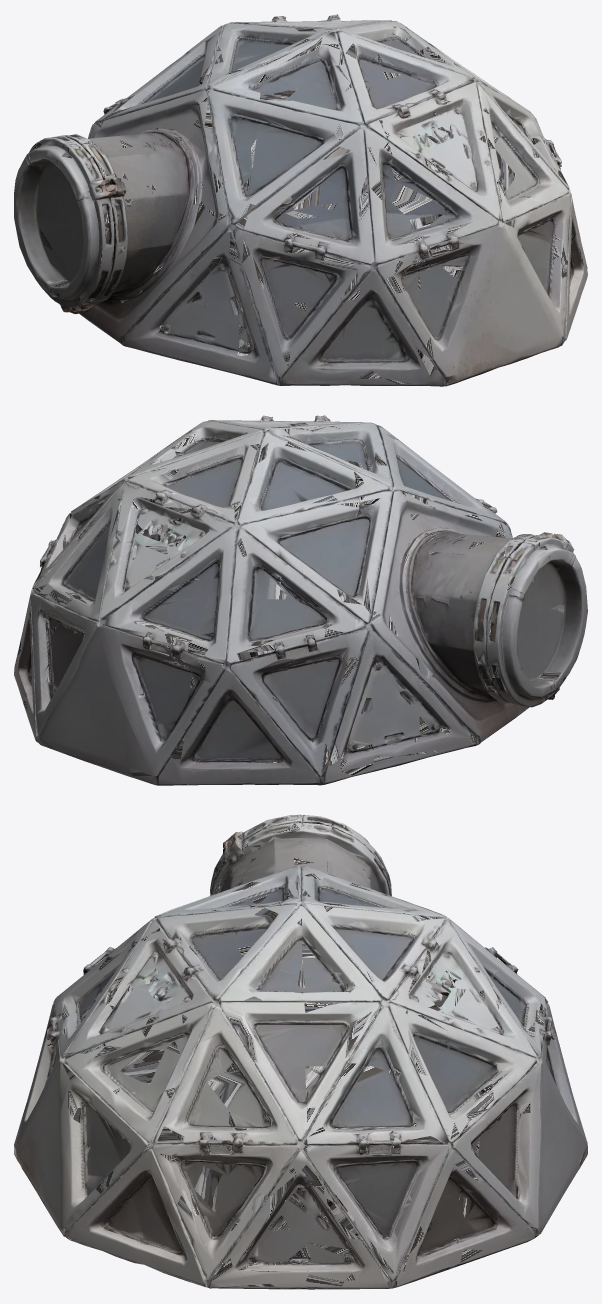
The model's file is building-2.glb.
3 renders of one model, top to bottom at view 1: azimuth 30°, elevation 25°; view 2: azimuth 150°, elevation 25°; view 3: azimuth 270°, elevation 25°, orthographic. The views are drawn at different scales.
Visible parts, largest first — view 1: tripo_node_6cfb158f-0798-49cf-8766-7e04f8e2e4c2; view 2: tripo_node_6cfb158f-0798-49cf-8766-7e04f8e2e4c2; view 3: tripo_node_6cfb158f-0798-49cf-8766-7e04f8e2e4c2.
Part boxes in pixels (x1,y1,x2,y2): tripo_node_6cfb158f-0798-49cf-8766-7e04f8e2e4c2: [14, 14, 587, 386]; tripo_node_6cfb158f-0798-49cf-8766-7e04f8e2e4c2: [14, 415, 587, 785]; tripo_node_6cfb158f-0798-49cf-8766-7e04f8e2e4c2: [14, 814, 587, 1289].
Bounding box in the file's own units: 0.9794 × 0.4992 × 0.9259.
Materials: 1 (1 with a texture image).
